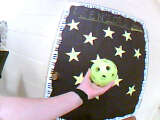Ball: (90, 58, 117, 86)
